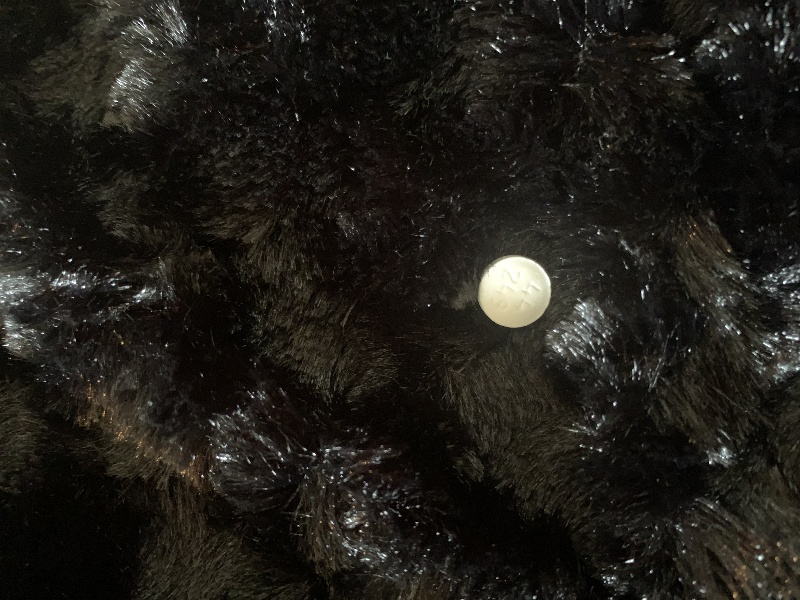Aspirin: (469, 241, 561, 339)
